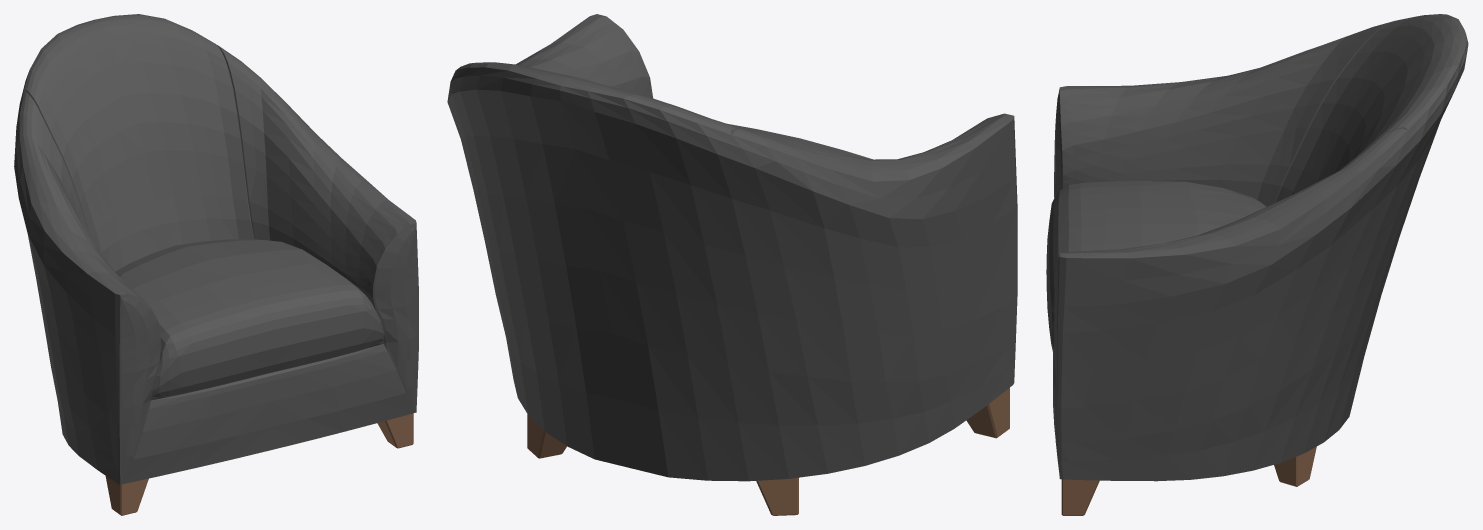
Rendered from sofa_small.dae.
3 renders of one model, left to right at view 1: azimuth 30°, elevation 25°; view 2: azimuth 150°, elevation 25°; view 3: azimuth 270°, elevation 25°, orthographic. The views are drawn at different scales.
Visible parts, largest first — view 1: instance_1 (×3); view 2: instance_1 (×4); view 3: instance_1 (×3).
Boxes of the visible parts, x1=… form: instance_1 (×3): x1=14, y1=14, x2=418, y2=515; instance_1 (×4): x1=447, y1=14, x2=1017, y2=515; instance_1 (×3): x1=1046, y1=14, x2=1468, y2=515.
Size of the model in its own units: 33.93 by 34.33 by 35.38.
